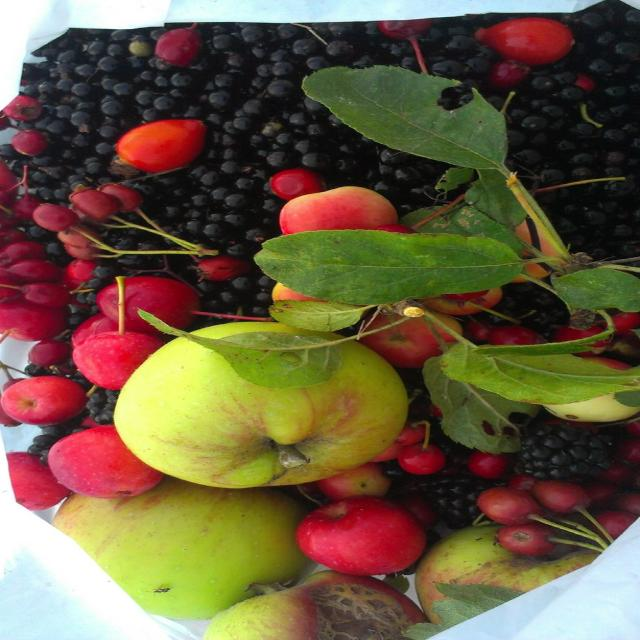Healty Apple: (111, 326, 407, 495), (52, 470, 315, 620), (412, 524, 599, 628), (200, 568, 438, 640), (295, 496, 429, 577)
